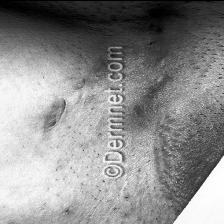Non-Cancerous Skin Condition: (126, 43, 189, 118)
